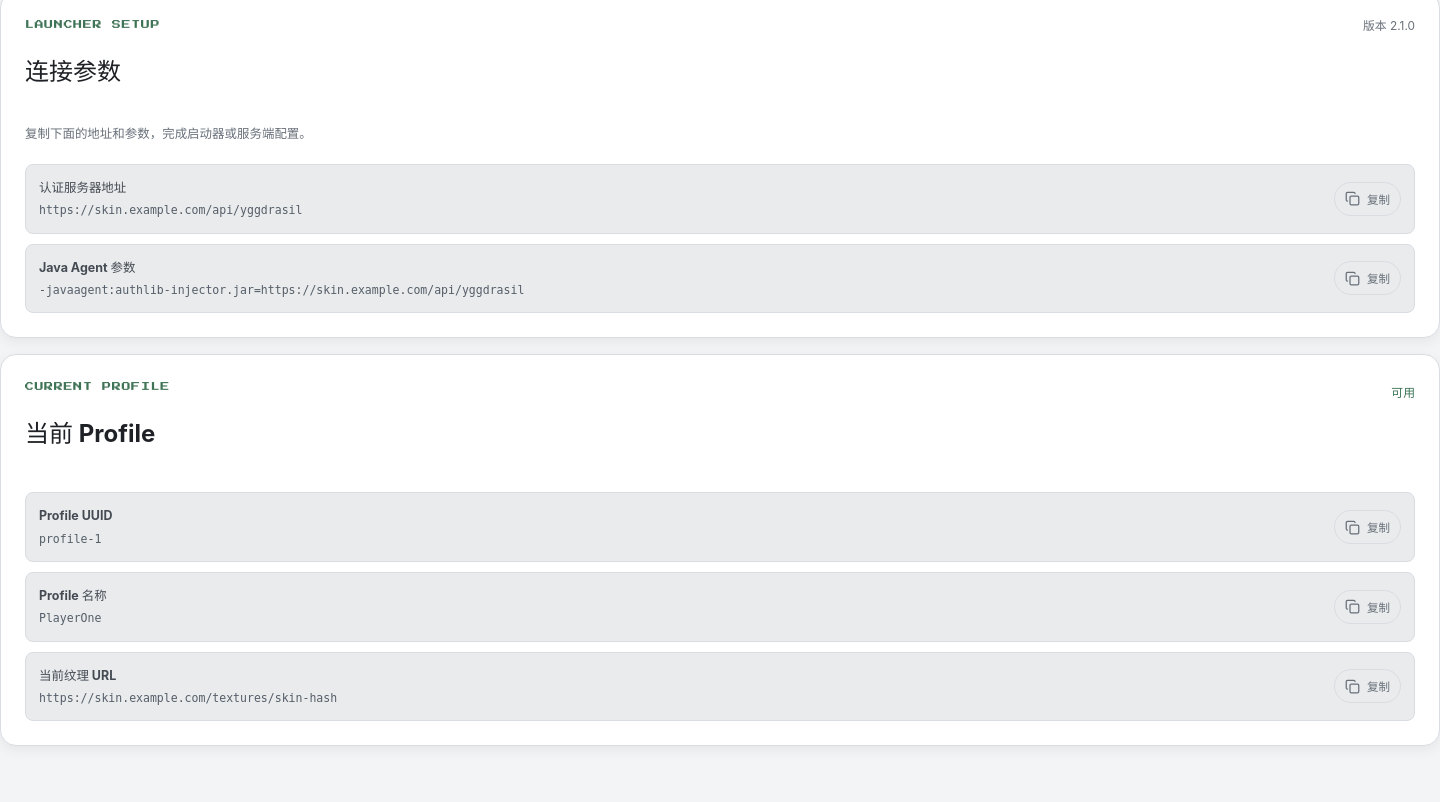
Test case: SetupView › reports successful feedback for every copy action
Click the button "复制" in the row of "认证服务器地址" at (1368, 199), box [1334,182,1401,216]
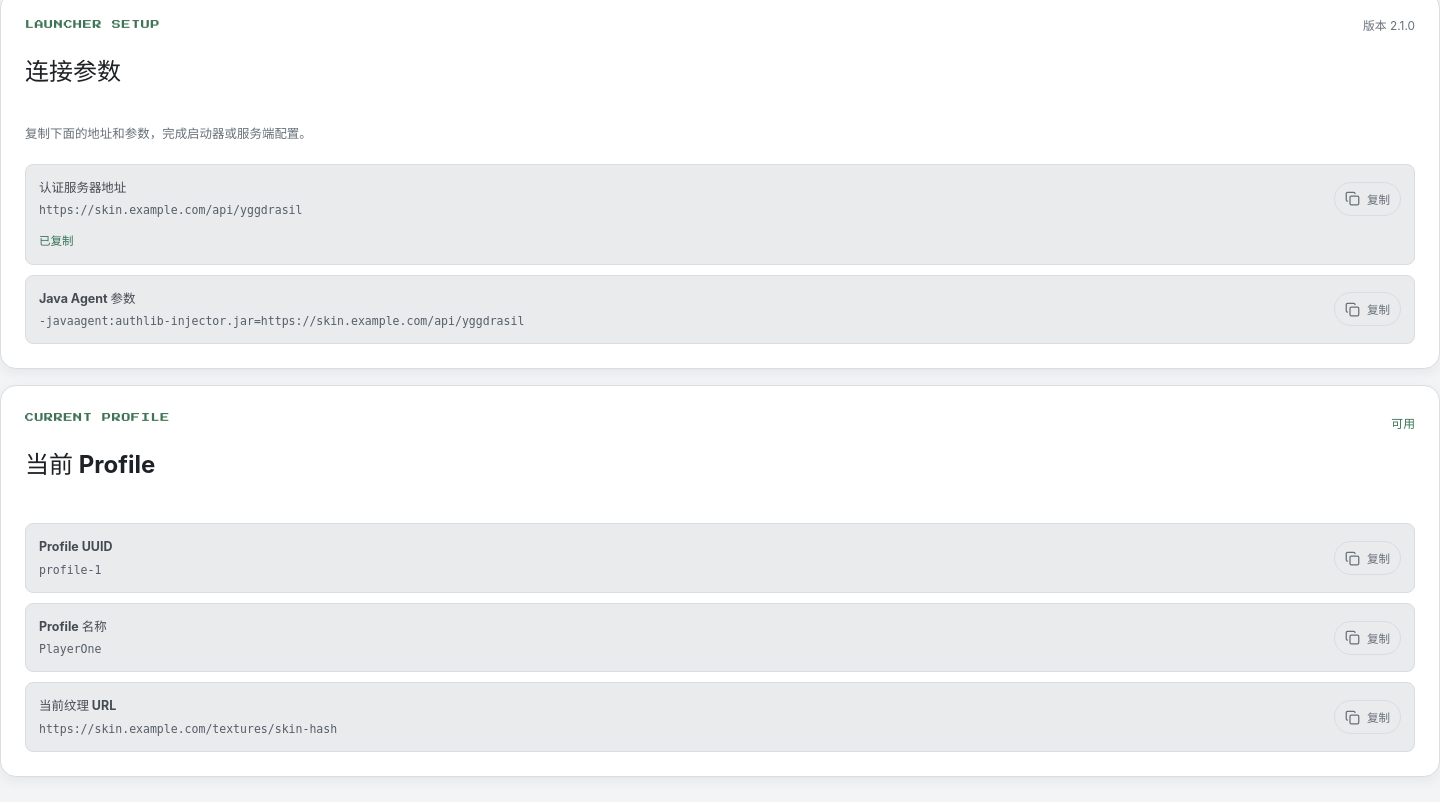
Click the button "复制" in the row of "Java Agent 参数" at (1368, 309), box [1334,292,1401,326]
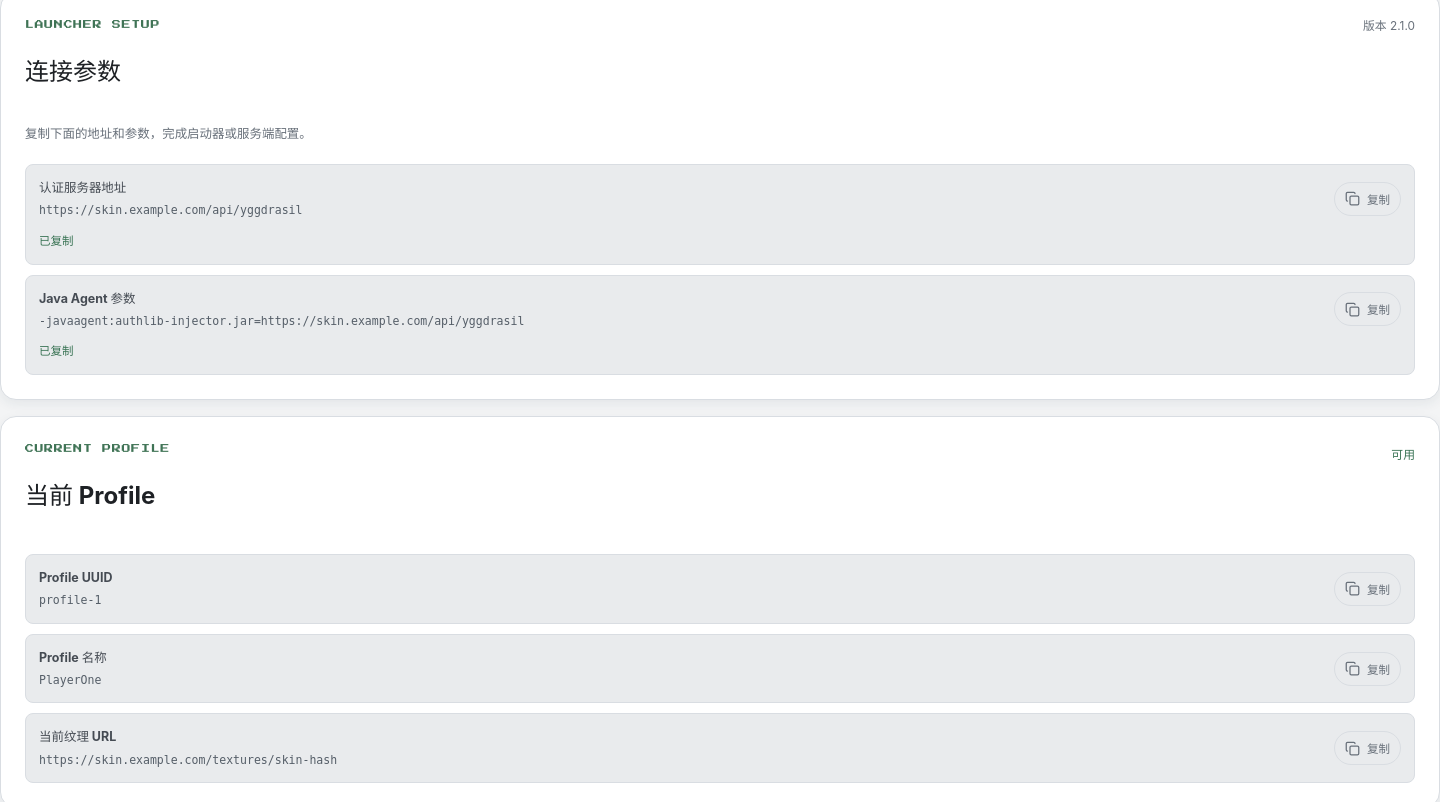
Click the button "复制" in the row of "Profile UUID" at (1368, 589), box [1334,572,1401,606]
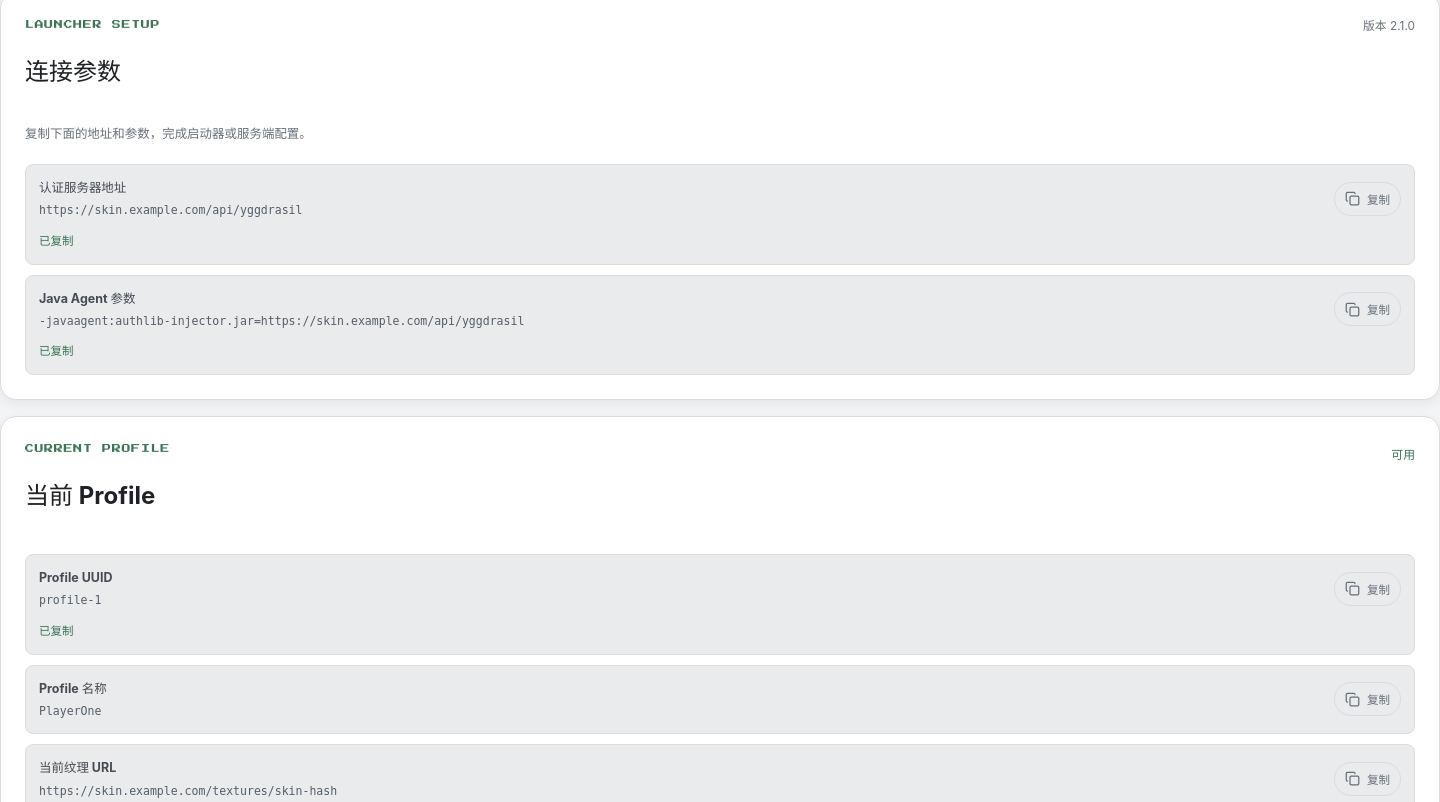
Click the button "复制" in the row of "Profile 名称" at (1368, 699), box [1334,682,1401,716]
(page scrolled)
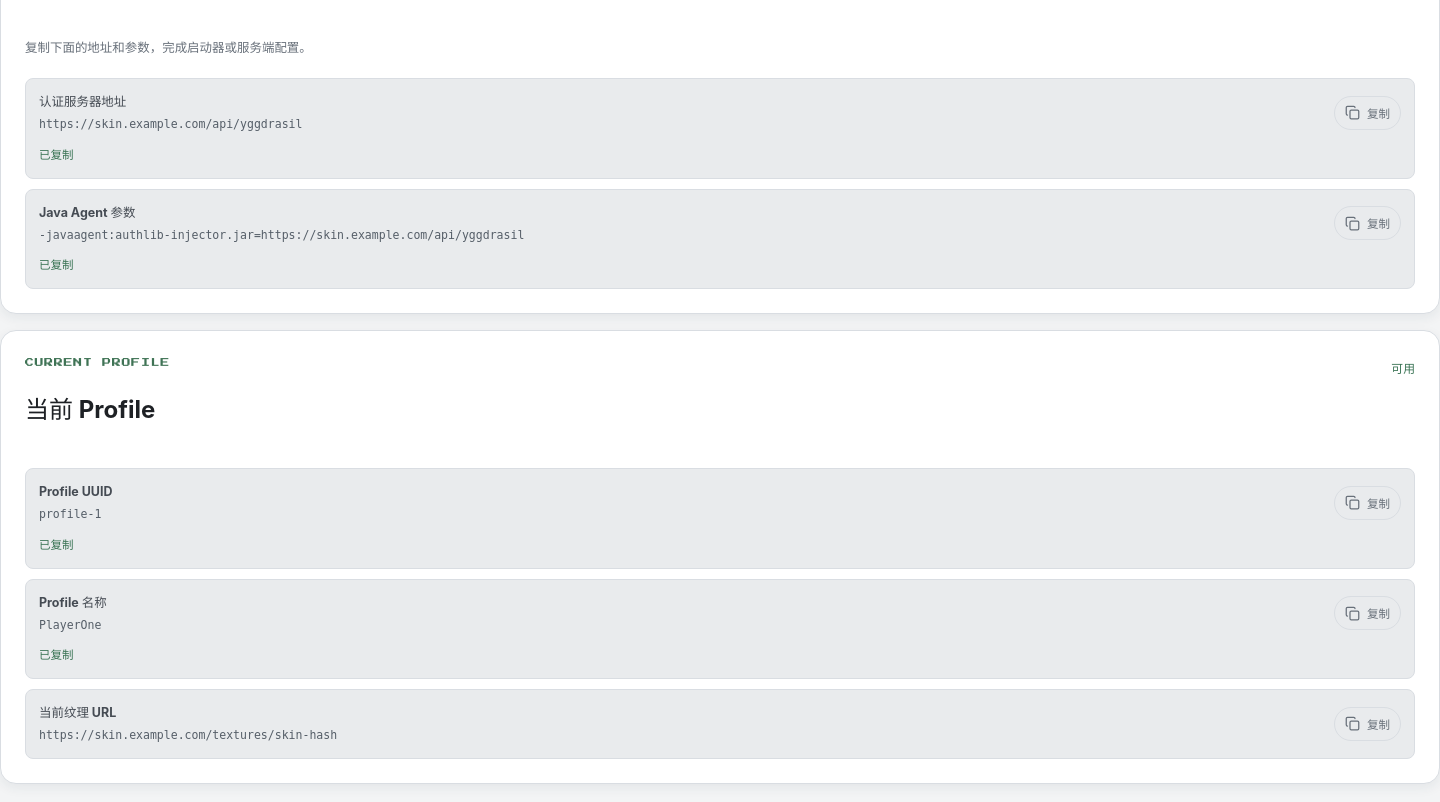
Click the button "复制" in the row of "当前纹理 URL" at (1368, 724), box [1334,707,1401,741]
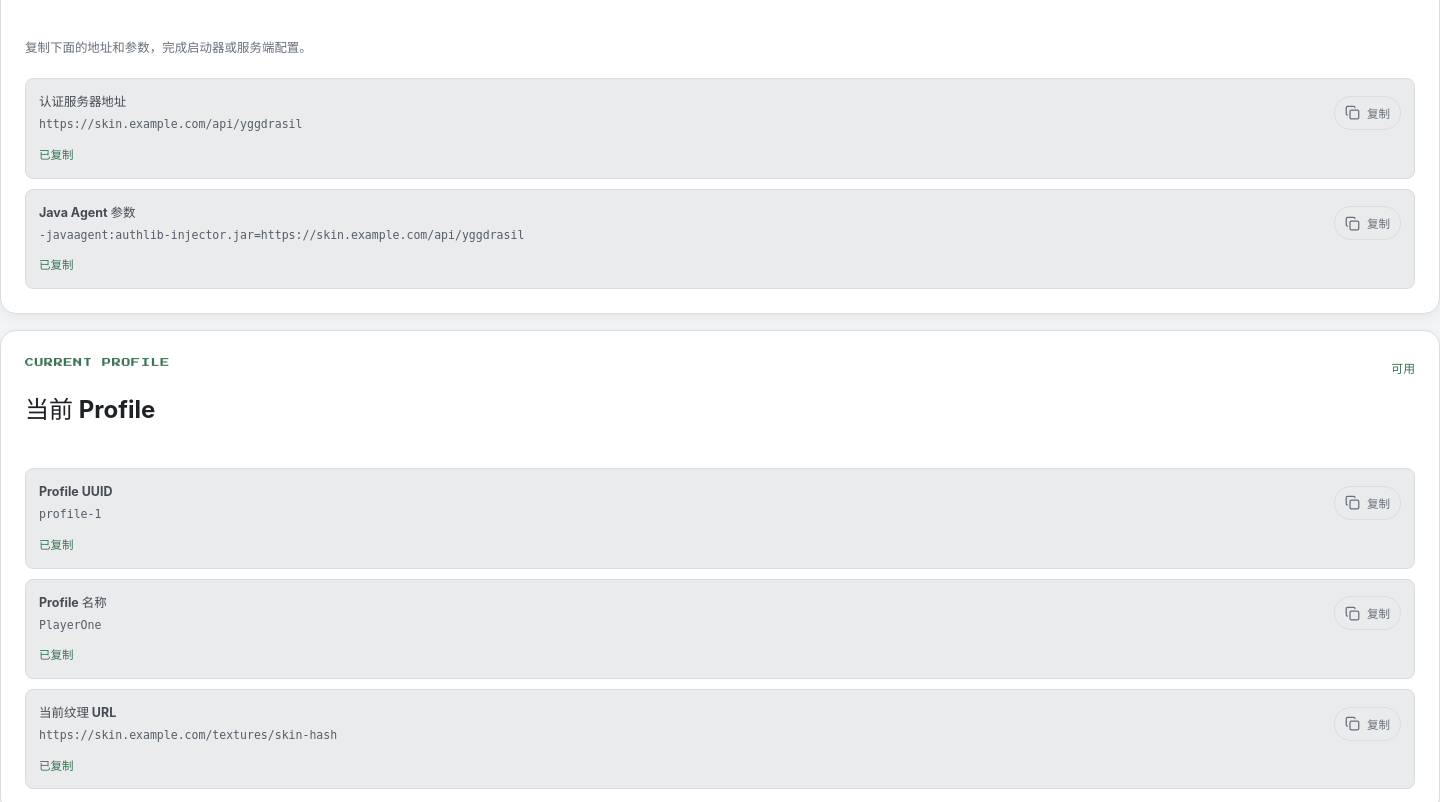
Check: the message "已复制" below "当前纹理 URL" is shown, box [39,759,74,773]
